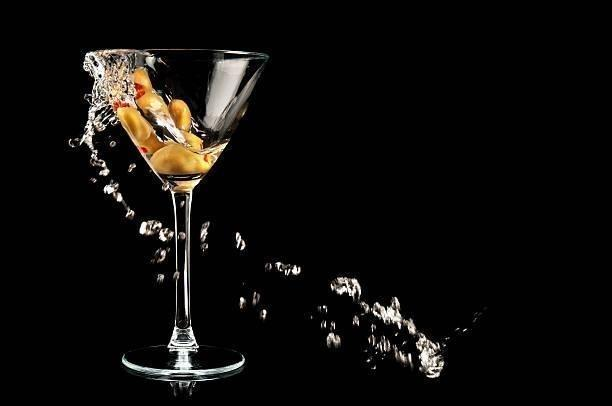glass-wine: (87, 45, 271, 382)
